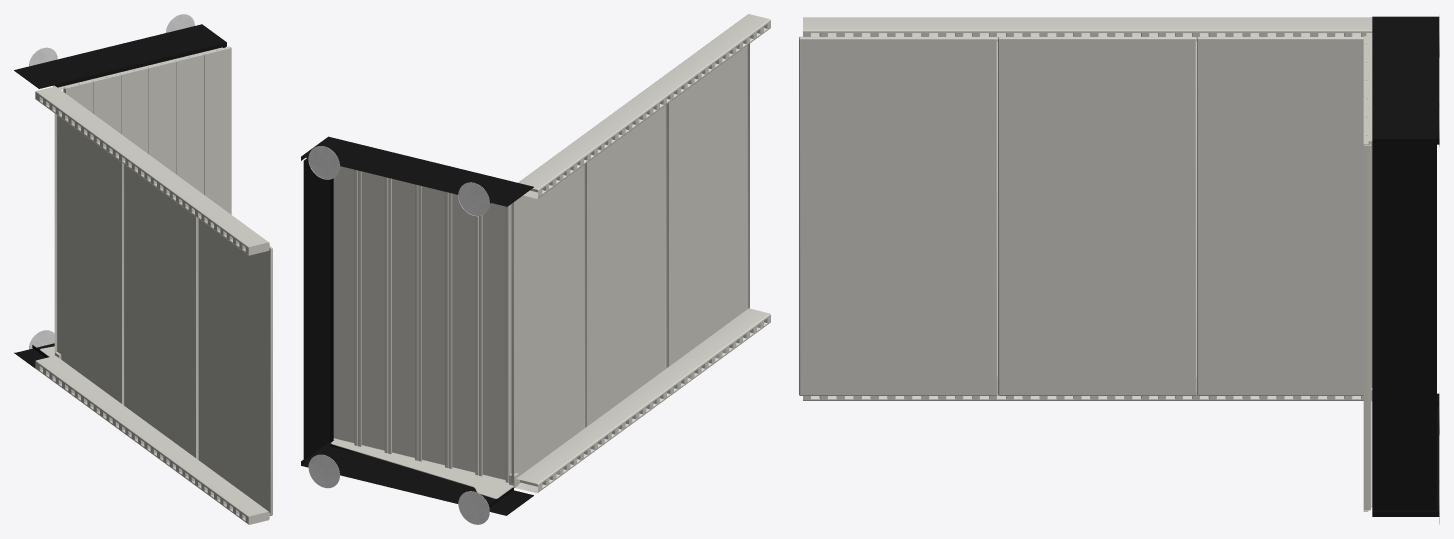
File: ShelvesBase02.obj
3 renders of one model, left to right at view 1: azimuth 30°, elevation 25°; view 2: azimuth 150°, elevation 25°; view 3: azimuth 270°, elevation 25°, orthographic. The views are drawn at different scales.
Parts seen in each view (by area): view 1: ShelvesBase02; view 2: ShelvesBase02; view 3: ShelvesBase02.
Boxes of the visible parts, box(x1,y1,x2,y2) form: ShelvesBase02: box(14, 14, 272, 524); ShelvesBase02: box(301, 14, 770, 524); ShelvesBase02: box(799, 14, 1439, 524).
Bounding box in the file's own units: 0.7377 × 1.14 × 1.59.
Materials: 3 (1 with a texture image).
